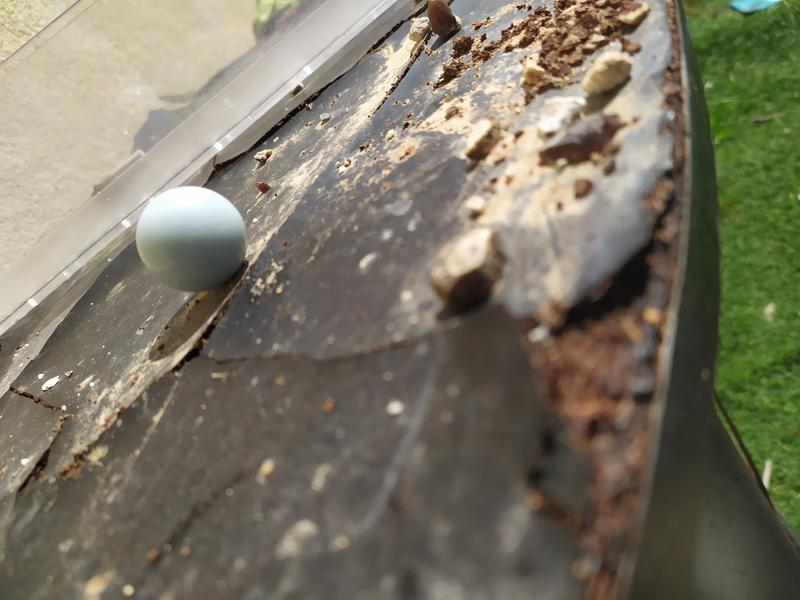Warning: (132, 182, 250, 295)
